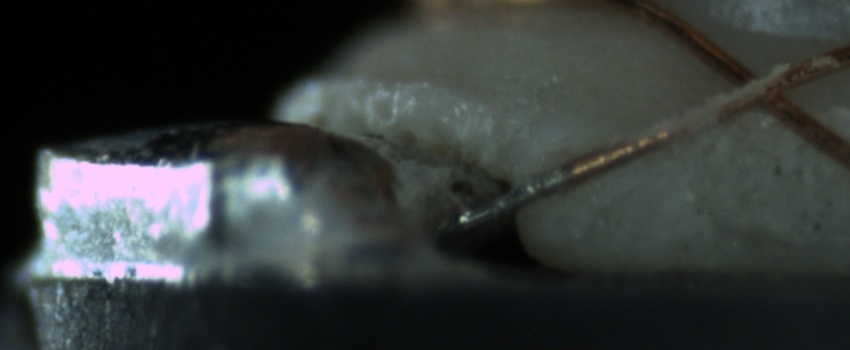CL: (716, 50, 815, 124)
TS: (447, 164, 571, 230)
